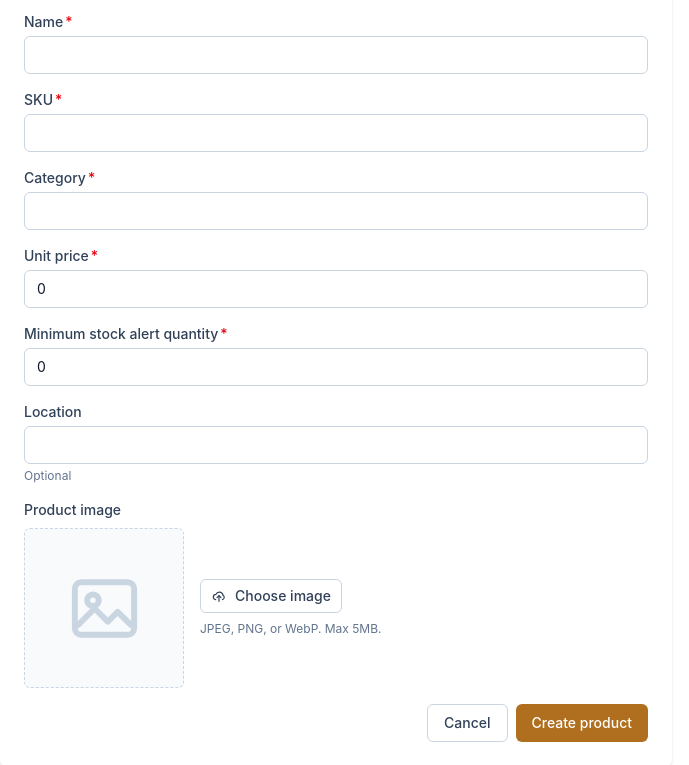
ProductFormPage › shows validation errors and does not submit when required fields are missing
(page scrolled)
Click the button "Create product": (582, 723) [516, 704, 648, 742]
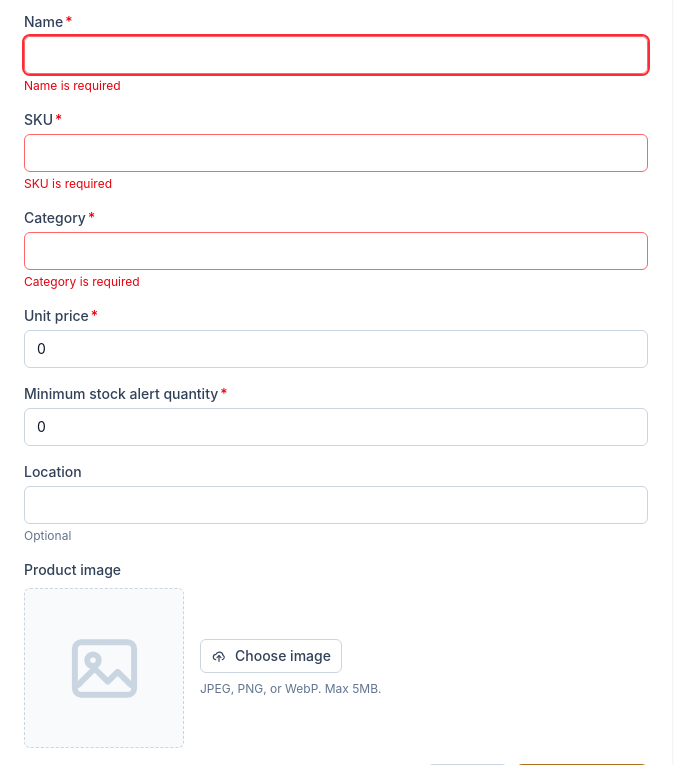
Result: the text "Name is required" is shown at [24, 78, 121, 93]
Result: the text "SKU is required" is shown at [24, 176, 112, 191]
Result: the text "Category is required" is shown at [24, 274, 140, 289]
